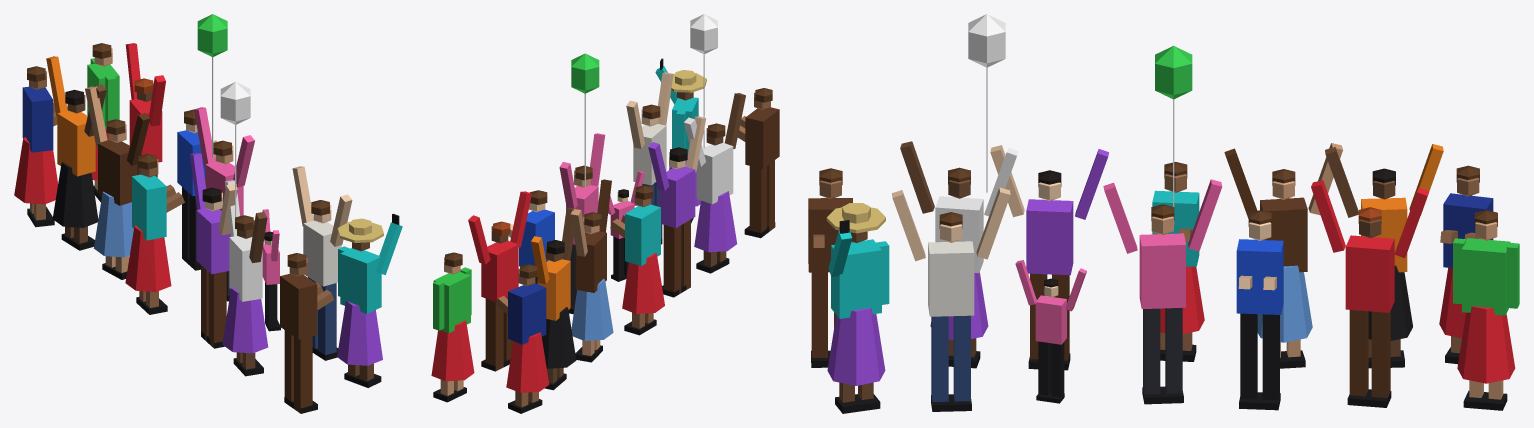
The model's file is publico_fiesta_7.obj.
3 renders of one model, left to right at view 1: azimuth 30°, elevation 25°; view 2: azimuth 150°, elevation 25°; view 3: azimuth 270°, elevation 25°, orthographic. The views are drawn at different scales.
Parts seen in each view (by area): view 1: publico_fiesta_7; view 2: publico_fiesta_7; view 3: publico_fiesta_7.
Boxes of the visible parts, x1=… form: publico_fiesta_7: x1=14, y1=14, x2=402, y2=413; publico_fiesta_7: x1=431, y1=14, x2=779, y2=413; publico_fiesta_7: x1=808, y1=14, x2=1519, y2=413.
Bounding box in the file's own units: 1.6 × 3.09 × 5.74.
